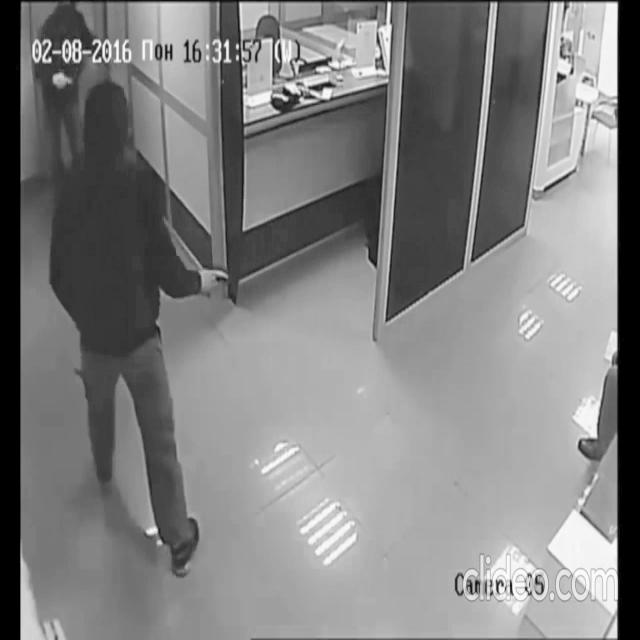gun: (208, 265, 234, 288)
person with a gun: (49, 79, 234, 576)
